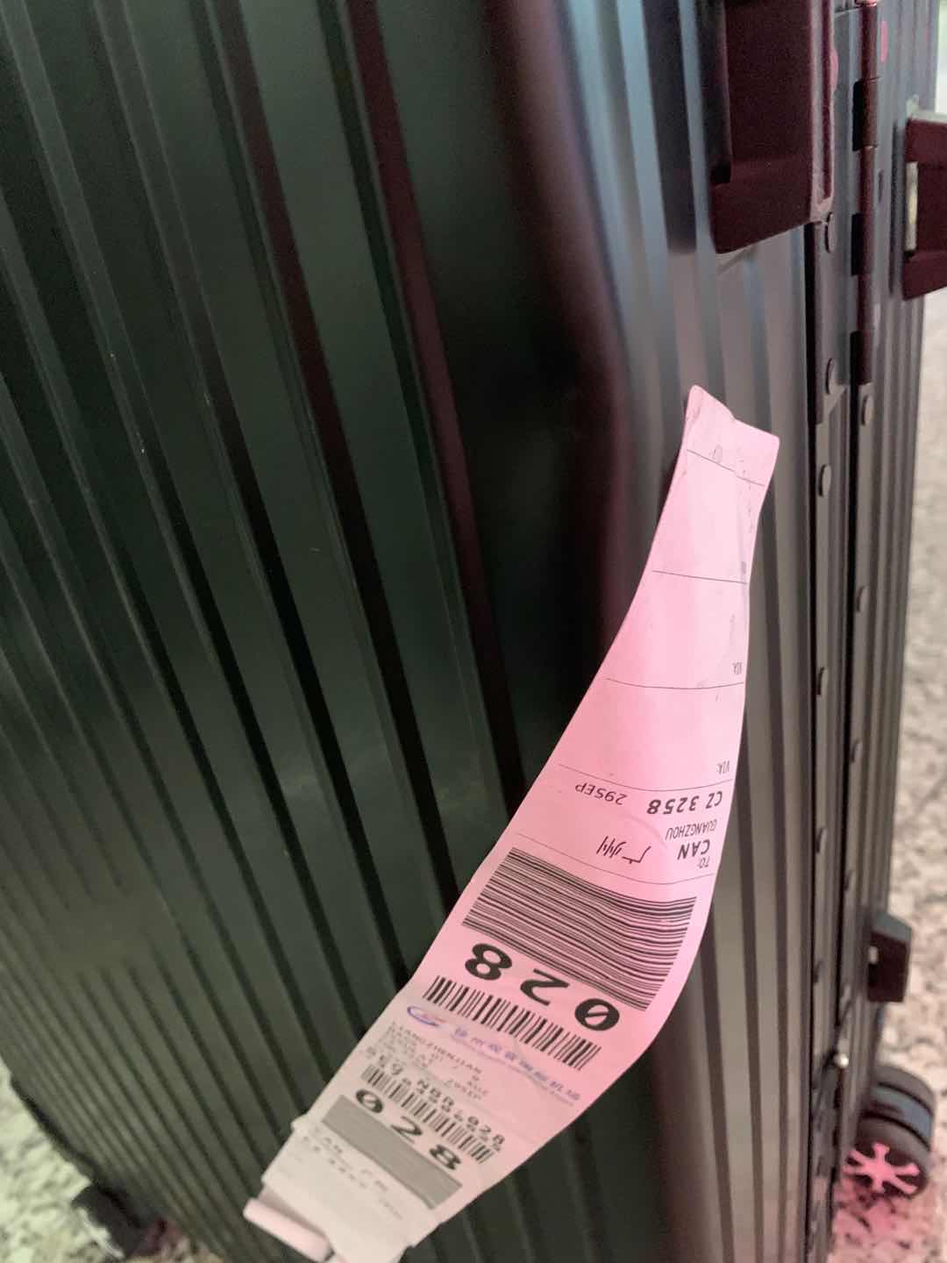rupture: (446, 274, 651, 602)
